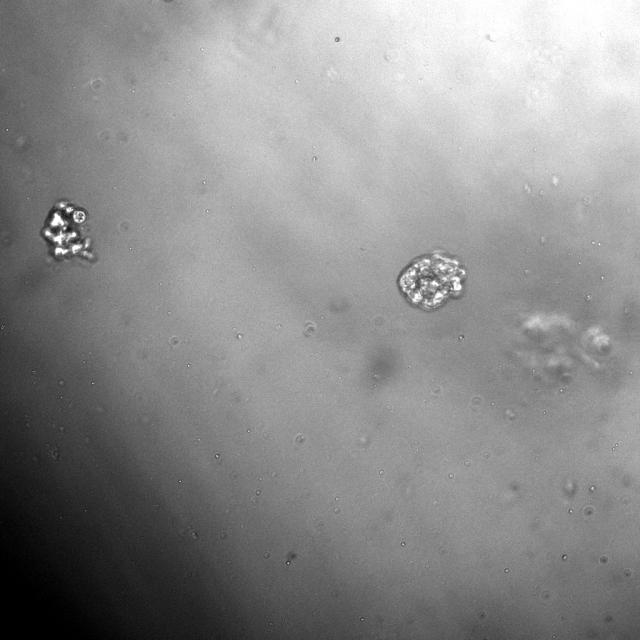organoid: (398, 252, 466, 310), (41, 200, 97, 264)
